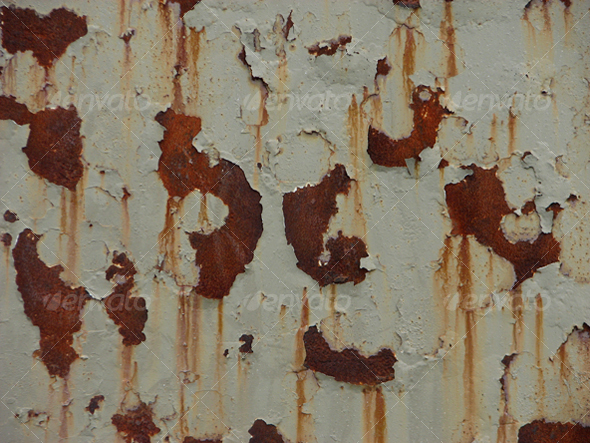rust: (145, 108, 262, 308), (8, 235, 139, 370), (452, 159, 562, 279), (309, 158, 376, 298), (279, 326, 407, 393), (11, 91, 83, 197), (5, 7, 87, 66), (388, 103, 445, 168)
